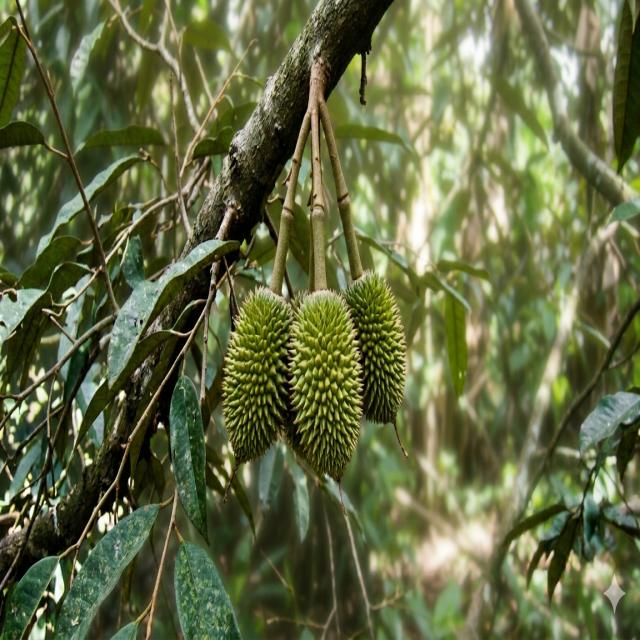immature: (284, 286, 365, 482), (221, 283, 295, 466), (340, 268, 408, 430)
